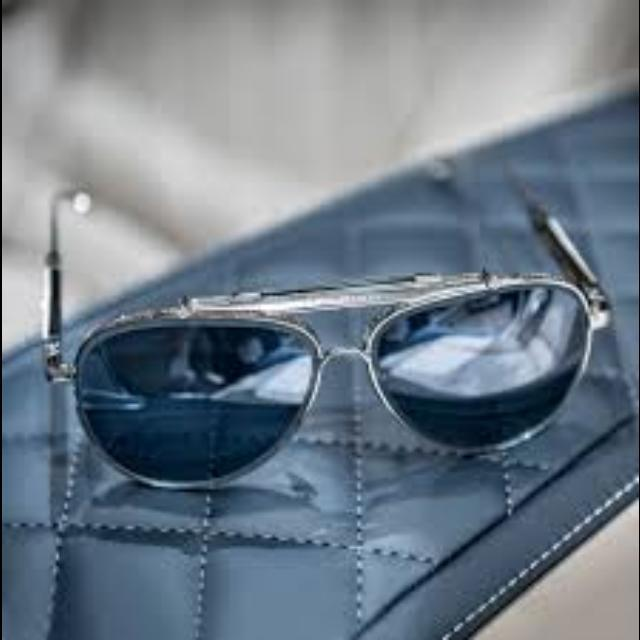sunglasses: (42, 180, 610, 494)
